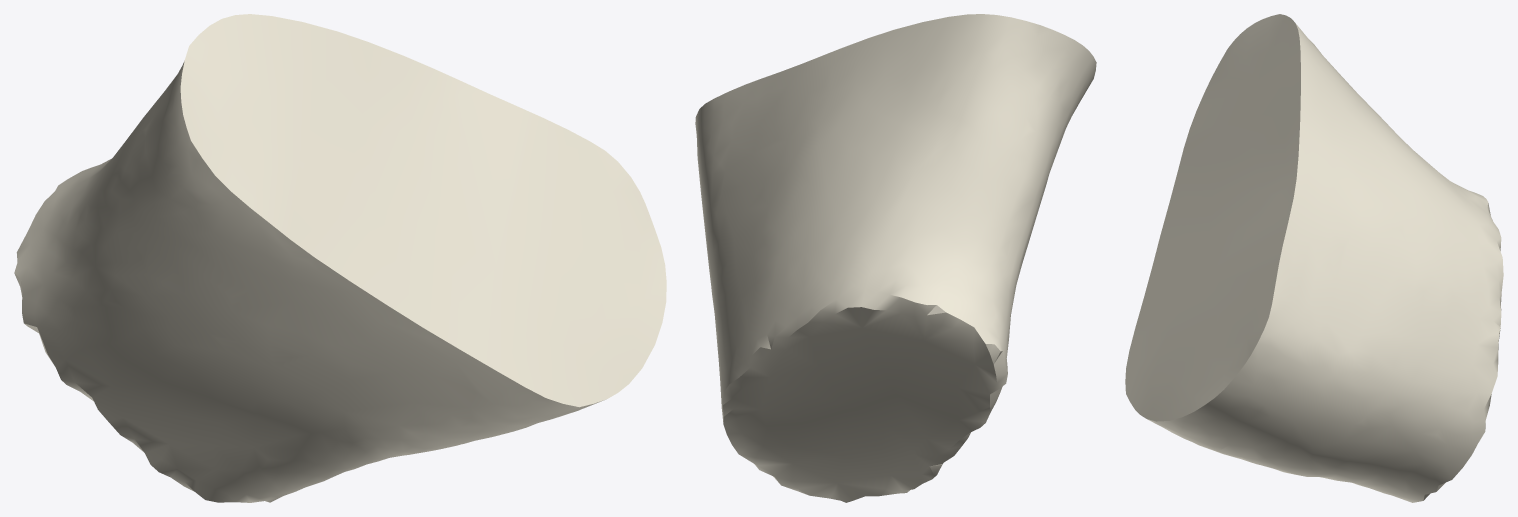
File: fma16995_mm1611m.glb
The picture shows the model from 3 angles, left to right: view 1: azimuth 30°, elevation 25°; view 2: azimuth 150°, elevation 25°; view 3: azimuth 270°, elevation 25°; orthographic projection. The views are drawn at different scales.
Parts seen in each view (by area): view 1: FMA16995_MM1611M; view 2: FMA16995_MM1611M; view 3: FMA16995_MM1611M.
Boxes of the visible parts, x1,y1,x2,y2 form: FMA16995_MM1611M: (14,14,666,502); FMA16995_MM1611M: (695,14,1096,502); FMA16995_MM1611M: (1125,14,1503,502).
Bounding box in the file's own units: 0.0219 × 0.0235 × 0.0189.
